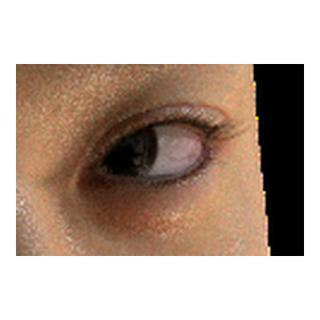pupil: (100, 129, 134, 163)
